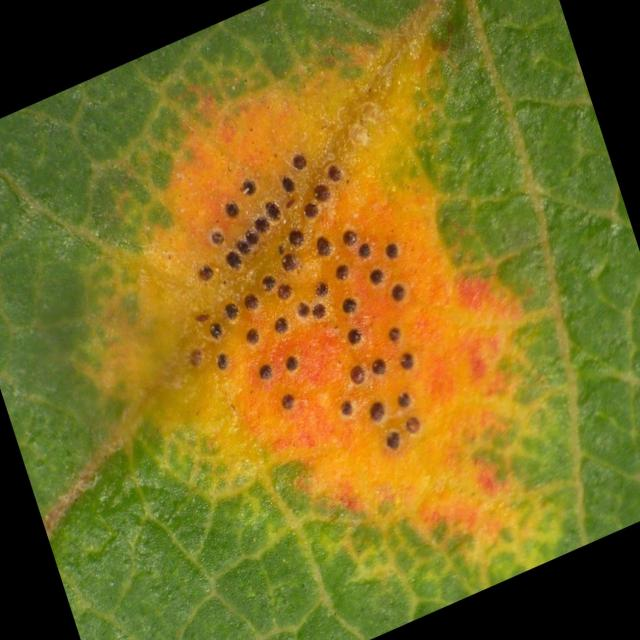Gymnosporangium_Rusts: (3, 2, 637, 636), (189, 147, 423, 456)
